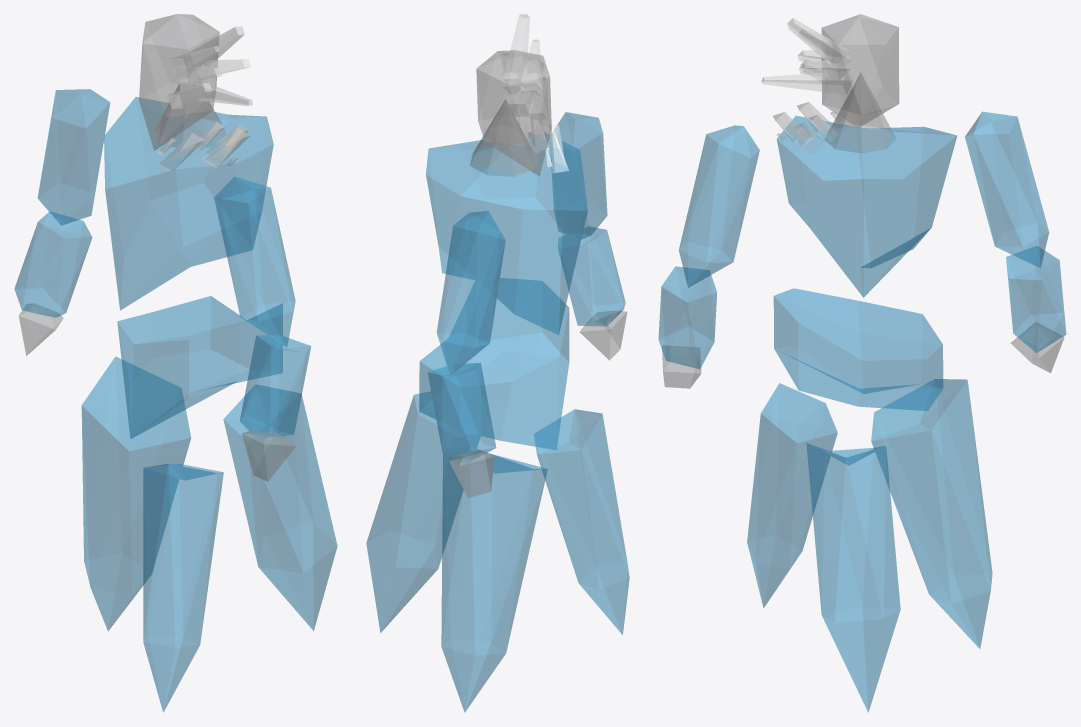
Rendered from ghostIdle34.obj.
3 views of the same model, side by side, from view 1: azimuth 30°, elevation 25°; view 2: azimuth 150°, elevation 25°; view 3: azimuth 270°, elevation 25° (orthographic). The views are drawn at different scales.
Visible parts, largest first — view 1: Cube.001_Cube.001, Icosphere.005, Icosphere.004, Cube_Cube.002, Icosphere.003, Icosphere.005_Icosphere.001, Icosphere.003_Icosphere.001, Icosphere.007_Icosphere.001, Icosphere.006_Icosphere.001, Icosphere.008_Icosphere.001, Cone_Cone.002, Cube.002_Cube.001 (+8 smaller); view 2: Cube.001_Cube.001, Cube_Cube.002, Icosphere.005, Icosphere.004, Icosphere.003, Icosphere.007_Icosphere.001, Icosphere.003_Icosphere.001, Icosphere.005_Icosphere.001, Icosphere.008_Icosphere.001, Icosphere.006_Icosphere.001, Cone_Cone.002, Cube.003_Cube.001 (+6 smaller); view 3: Cube.001_Cube.001, Icosphere.005, Icosphere.004, Cube_Cube.002, Icosphere.003, Icosphere.005_Icosphere.001, Icosphere.007_Icosphere.001, Icosphere.003_Icosphere.001, Icosphere.006_Icosphere.001, Icosphere.008_Icosphere.001, Cone_Cone.002, Cube.003_Cube.001 (+4 smaller).
Part boxes in pixels (box(x1,y1,x2,y2)): Cube.001_Cube.001: box(104, 97, 273, 310); Icosphere.005: box(81, 356, 191, 631); Icosphere.004: box(223, 384, 337, 630); Cube_Cube.002: box(117, 296, 282, 438); Icosphere.003: box(143, 463, 223, 712); Icosphere.005_Icosphere.001: box(214, 177, 295, 347); Icosphere.003_Icosphere.001: box(139, 14, 219, 150); Icosphere.007_Icosphere.001: box(37, 89, 110, 225); Icosphere.006_Icosphere.001: box(240, 335, 310, 438); Icosphere.008_Icosphere.001: box(14, 211, 92, 317); Cone_Cone.002: box(155, 84, 226, 147); Cube.002_Cube.001: box(242, 430, 295, 481); Cube.001_Cube.001: box(426, 132, 587, 334); Cube_Cube.002: box(419, 278, 569, 449); Icosphere.005: box(441, 447, 547, 712); Icosphere.004: box(366, 391, 480, 632); Icosphere.003: box(534, 409, 629, 634); Icosphere.007_Icosphere.001: box(436, 211, 505, 375); Icosphere.003_Icosphere.001: box(476, 50, 551, 176); Icosphere.005_Icosphere.001: box(551, 112, 607, 239); Icosphere.008_Icosphere.001: box(428, 362, 496, 463); Icosphere.006_Icosphere.001: box(558, 226, 625, 326); Cone_Cone.002: box(470, 99, 534, 176); Cube.003_Cube.001: box(449, 449, 494, 497); Cube.001_Cube.001: box(776, 115, 956, 297); Icosphere.005: box(871, 379, 992, 648); Icosphere.004: box(806, 443, 900, 712); Cube_Cube.002: box(773, 288, 943, 410); Icosphere.003: box(747, 383, 837, 607); Icosphere.005_Icosphere.001: box(679, 125, 759, 287); Icosphere.007_Icosphere.001: box(965, 111, 1049, 268); Icosphere.003_Icosphere.001: box(821, 14, 899, 126); Icosphere.006_Icosphere.001: box(658, 266, 716, 369); Icosphere.008_Icosphere.001: box(1006, 246, 1066, 352); Cone_Cone.002: box(824, 72, 895, 152); Cube.003_Cube.001: box(1010, 322, 1064, 372).
Size of the model in its own units: 16.95 by 47.96 by 27.45.
